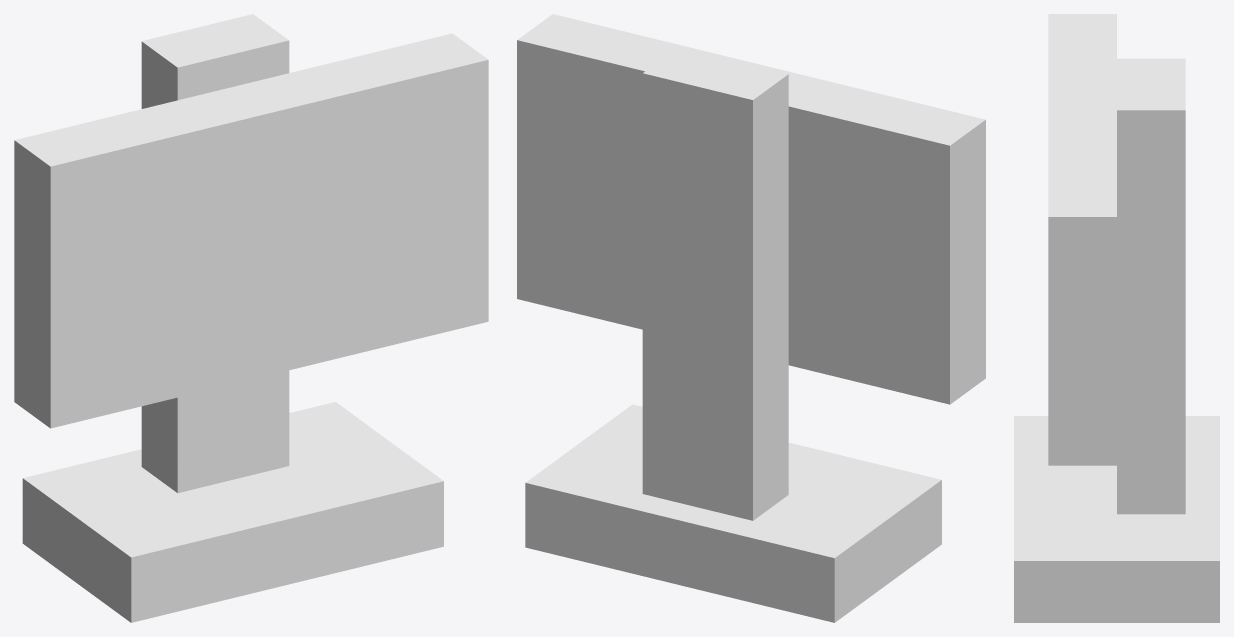
File: Fbx_DeathPitSign.fbx
The picture shows the model from 3 angles, left to right: view 1: azimuth 30°, elevation 25°; view 2: azimuth 150°, elevation 25°; view 3: azimuth 270°, elevation 25°; orthographic projection. The views are drawn at different scales.
Parts seen in each view (by area): view 1: Death Pit Sign; view 2: Death Pit Sign; view 3: Death Pit Sign.
Part boxes in pixels (x1,y1,x2,y2): Death Pit Sign: (14,14,488,622); Death Pit Sign: (517,14,985,622); Death Pit Sign: (1014,14,1219,622).
Bounding box in the file's own units: 1.4 × 1.5 × 0.6.
